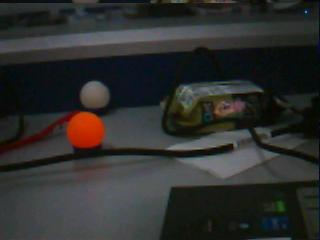oball: (66, 111, 105, 147)
